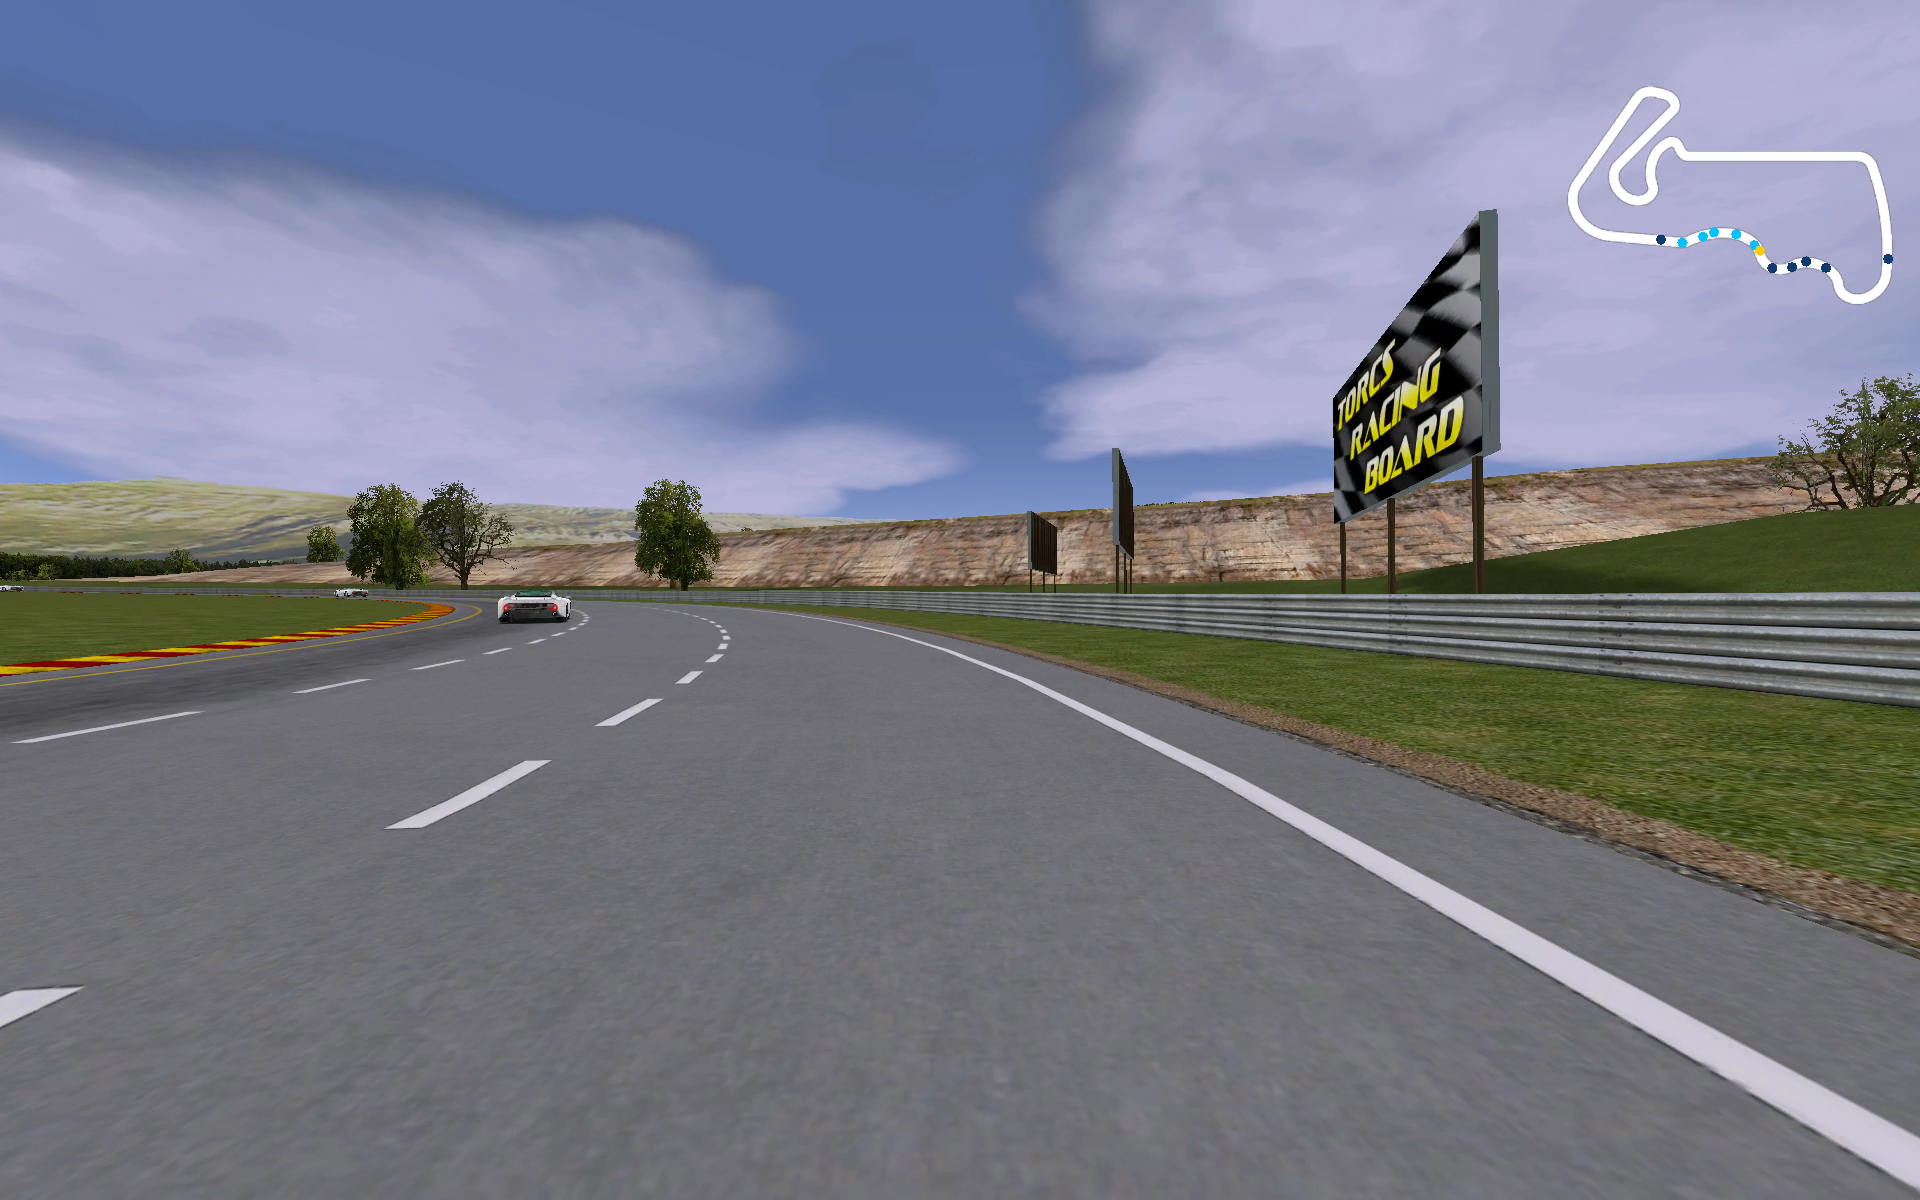car: (492, 586, 578, 628), (332, 583, 370, 601)
